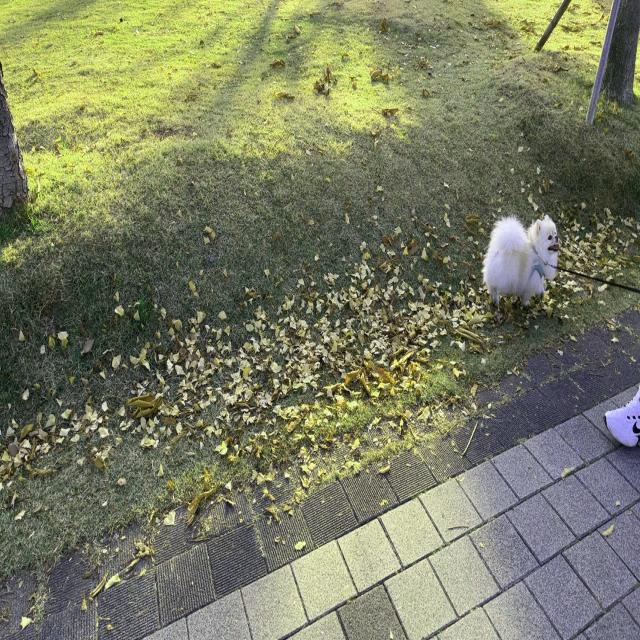Dog: (482, 212, 560, 308)
